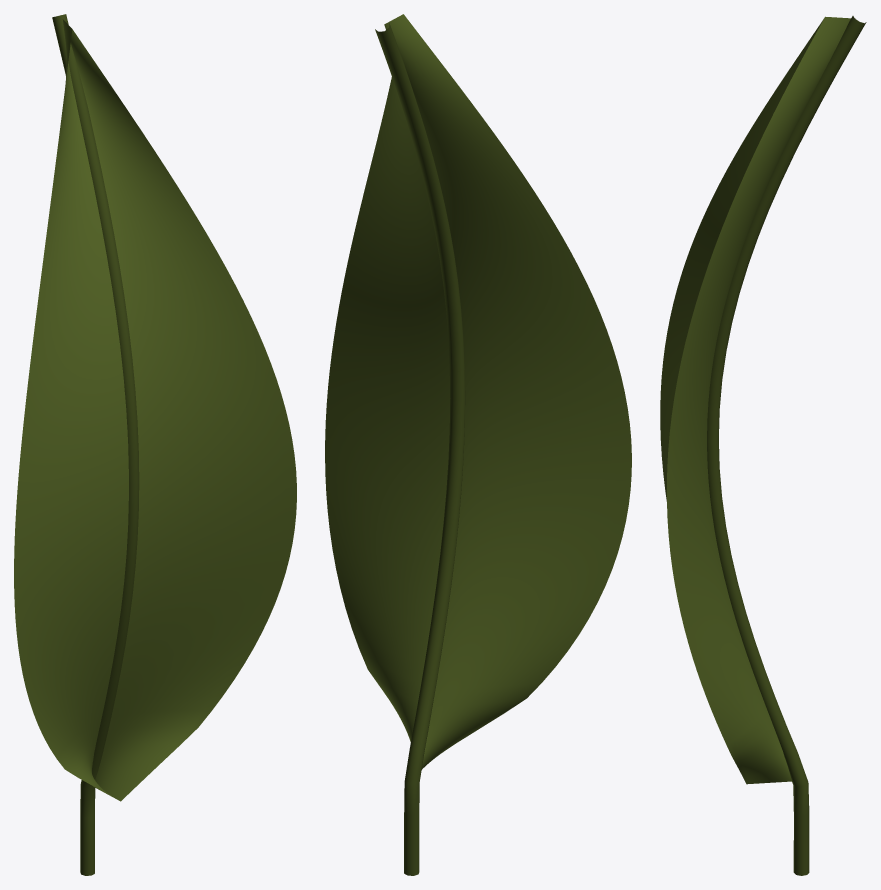
The model's file is leaf.glb.
3 views of the same model, side by side, from view 1: azimuth 30°, elevation 25°; view 2: azimuth 150°, elevation 25°; view 3: azimuth 270°, elevation 25° (orthographic). The views are drawn at different scales.
Parts seen in each view (by area): view 1: Blade, Stem; view 2: Blade, Stem; view 3: Blade, Stem.
Boxes of the visible parts, box(x1,y1,x2,y2) form: Blade: box(14, 19, 296, 801); Stem: box(52, 14, 139, 875); Blade: box(325, 14, 631, 769); Stem: box(375, 23, 465, 875); Blade: box(660, 16, 855, 784); Stem: box(707, 16, 866, 875).
Bounding box in the file's own units: 1.05 × 2.92 × 0.638.
